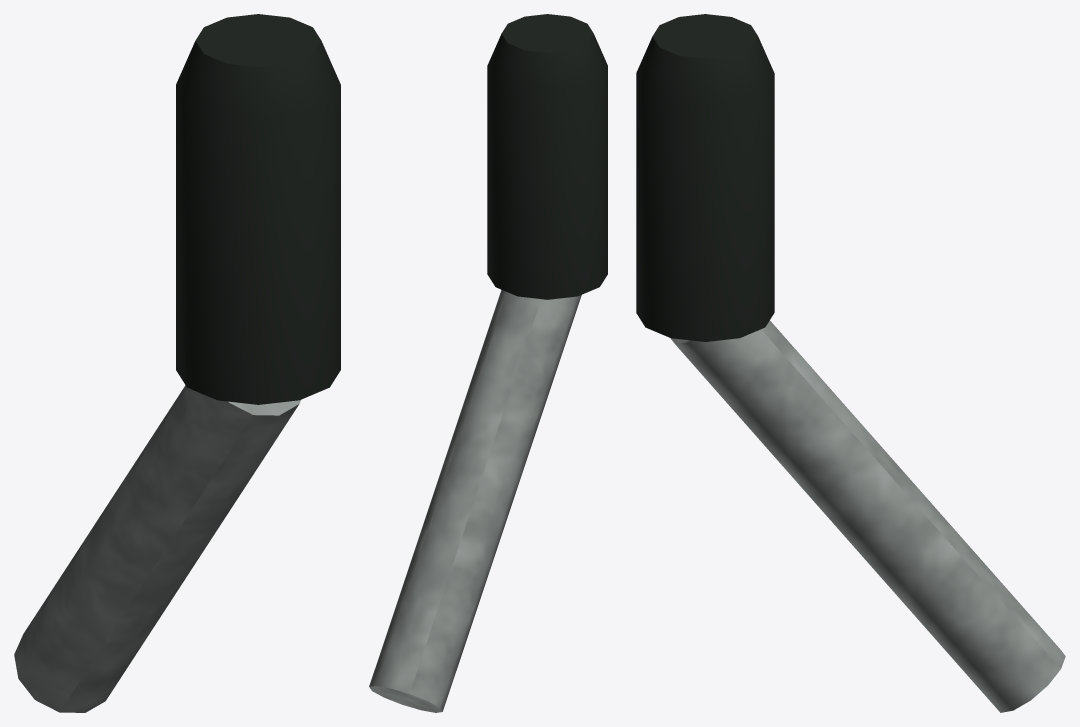
The model's file is SM_Substation_Lever.glb.
3 renders of one model, left to right at view 1: azimuth 30°, elevation 25°; view 2: azimuth 150°, elevation 25°; view 3: azimuth 270°, elevation 25°, orthographic. The views are drawn at different scales.
Parts seen in each view (by area): view 1: SM_Substation_Lever; view 2: SM_Substation_Lever; view 3: SM_Substation_Lever.
Part boxes in pixels (box(x1,y1,x2,y2)): SM_Substation_Lever: box(14, 14, 340, 712); SM_Substation_Lever: box(369, 14, 607, 712); SM_Substation_Lever: box(636, 14, 1065, 712).
Bounding box in the file's own units: 0.068 × 0.3637 × 0.2112.
2 materials, 1 textured.
